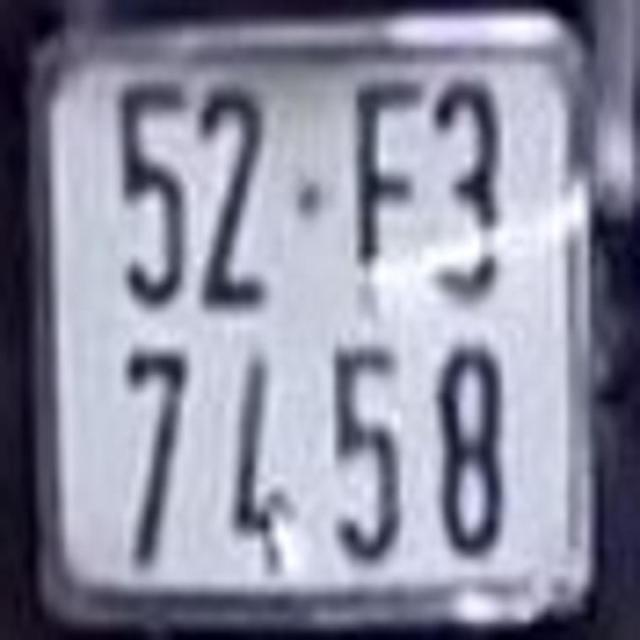2: (196, 79, 271, 312)
3: (432, 73, 514, 304)
4: (222, 340, 296, 576)
5: (324, 331, 405, 567), (115, 71, 189, 306)
7: (114, 342, 192, 568)
8: (430, 338, 512, 557)
F: (344, 72, 427, 320)
